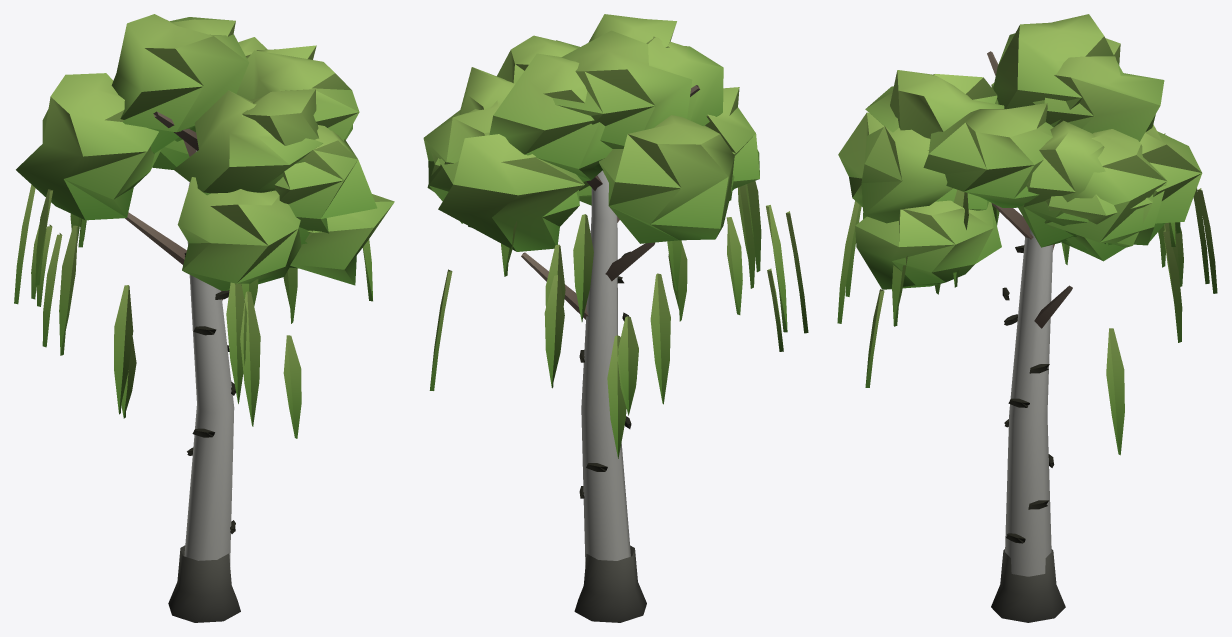
The model's file is silver_birch.glb.
3 renders of one model, left to right at view 1: azimuth 30°, elevation 25°; view 2: azimuth 150°, elevation 25°; view 3: azimuth 270°, elevation 25°, orthographic.
Visible parts, largest first — view 1: silver_birch; view 2: silver_birch; view 3: silver_birch.
Part boxes in pixels (x1,y1,x2,y2): silver_birch: (14,14,394,622); silver_birch: (423,14,808,622); silver_birch: (837,14,1217,622).
Bounding box in the file's own units: 0.5652 × 1.01 × 0.6081.
